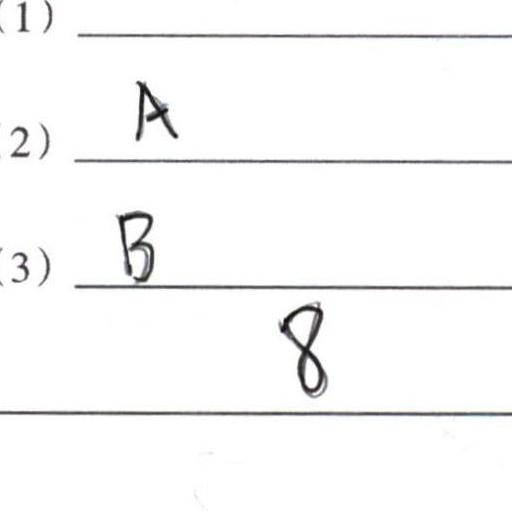ans: (269, 294, 331, 397), (109, 200, 158, 283), (132, 81, 179, 144)
